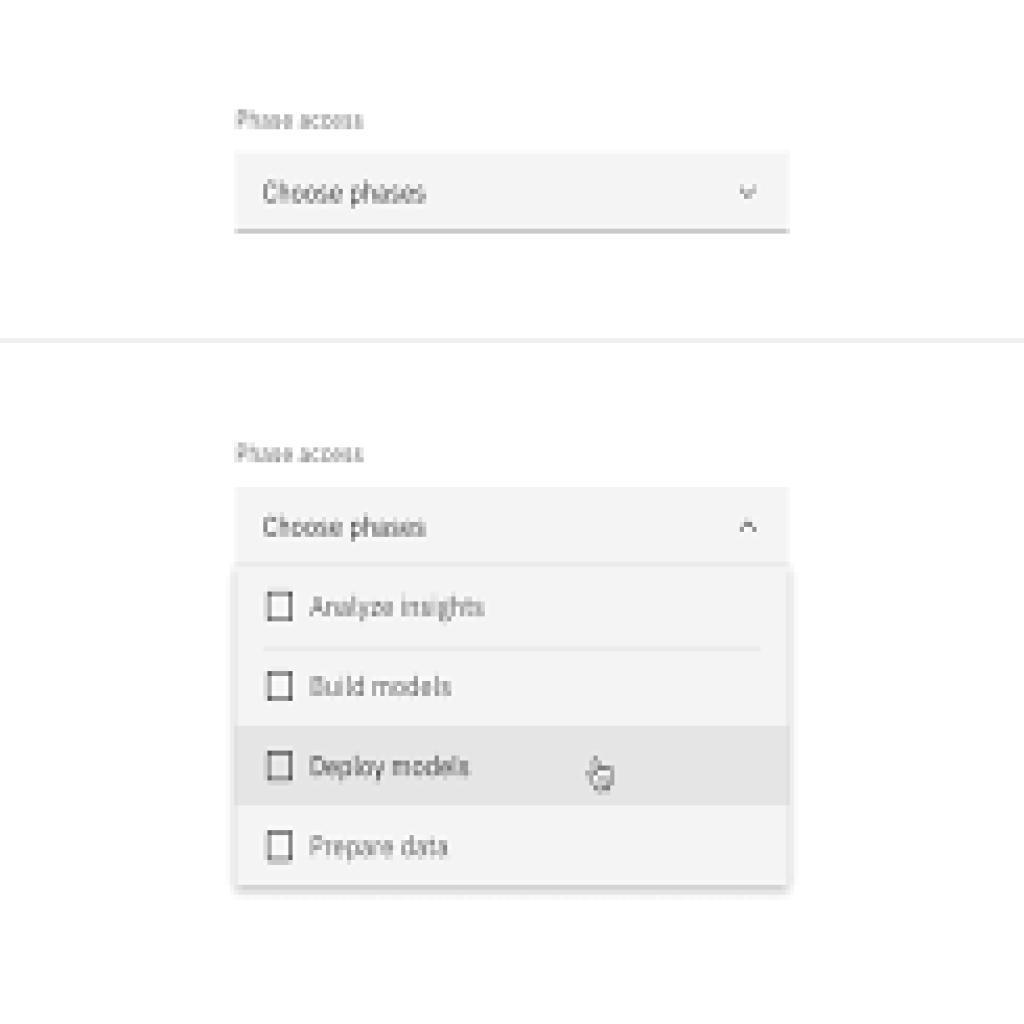checkbox: (267, 751, 294, 783), (268, 671, 294, 702), (268, 831, 293, 863), (267, 592, 292, 621)
dropdown: (235, 153, 790, 231), (238, 488, 781, 563)
label: (304, 825, 455, 866), (310, 592, 492, 624), (304, 751, 476, 779), (312, 674, 460, 704)
